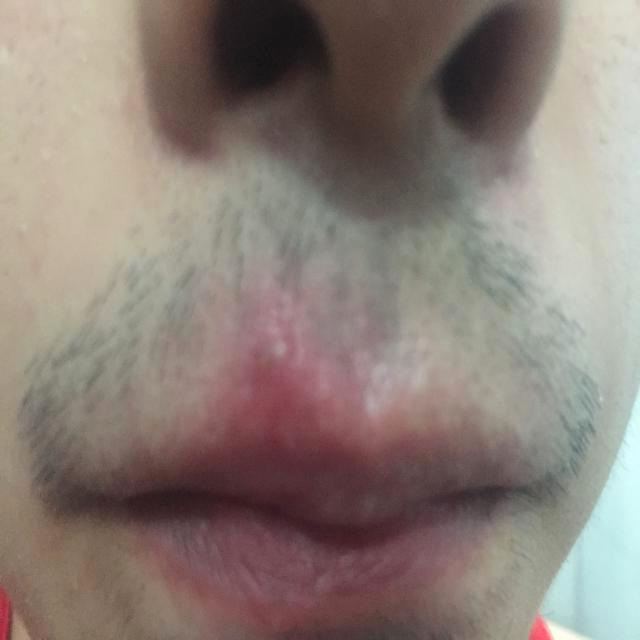Pimples: (255, 320, 294, 382)
